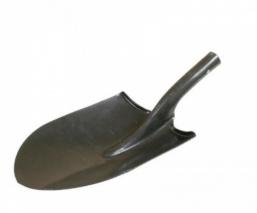PELLE: (5, 45, 238, 194), (4, 47, 233, 195)
